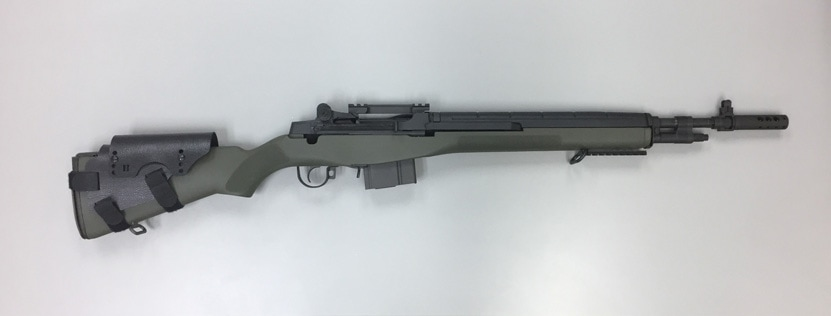Arma Real: (63, 98, 791, 236)
